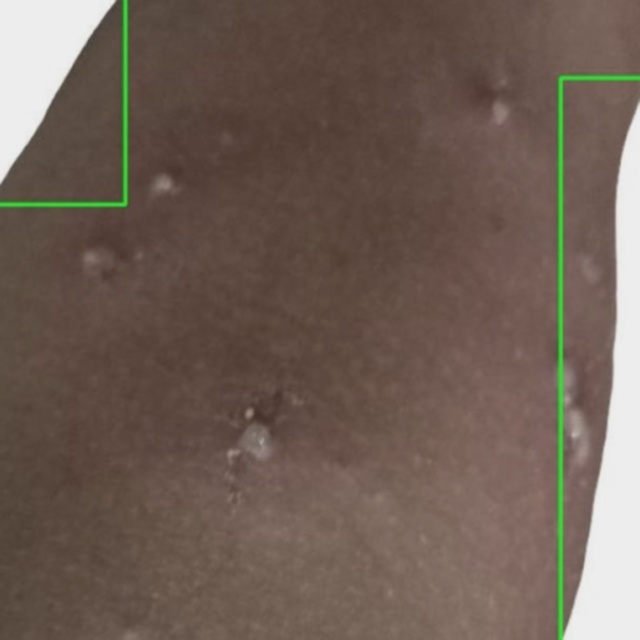Scabies: (559, 76, 639, 639), (0, 0, 125, 204)
